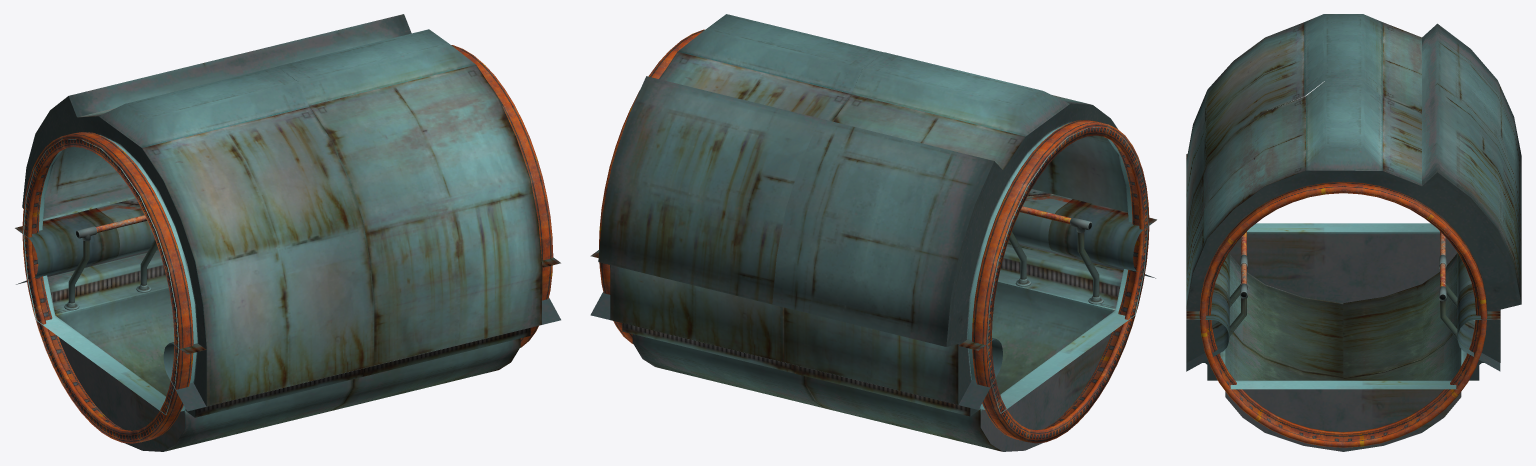
File: phi_tunnel_straight_short.DAE
The picture shows the model from 3 angles, left to right: view 1: azimuth 30°, elevation 25°; view 2: azimuth 150°, elevation 25°; view 3: azimuth 270°, elevation 25°; orthographic projection. The views are drawn at different scales.
Parts seen in each view (by area): view 1: polySurface465, phitunnel_straight018, polySurface464, phitunnel_straight019, phitunnel_straight01; view 2: polySurface465, phitunnel_straight018, polySurface464, phitunnel_straight01, phitunnel_straight019; view 3: polySurface465, phitunnel_straight019, polySurface464, phitunnel_straight01.
Boxes of the visible parts, x1,y1,x2,y2 form: polySurface465: [22, 14, 542, 451]; phitunnel_straight018: [22, 132, 193, 443]; polySurface464: [15, 198, 560, 411]; phitunnel_straight019: [451, 45, 553, 347]; phitunnel_straight01: [64, 215, 157, 310]; polySurface465: [598, 14, 1148, 451]; phitunnel_straight018: [972, 120, 1149, 443]; polySurface464: [590, 189, 1156, 409]; phitunnel_straight01: [1009, 206, 1103, 304]; phitunnel_straight019: [599, 29, 704, 344]; polySurface465: [1186, 14, 1521, 451]; phitunnel_straight019: [1199, 181, 1487, 447]; polySurface464: [1186, 154, 1500, 371]; phitunnel_straight01: [1219, 231, 1467, 354].
Bounding box in the file's own units: 5 × 4.17 × 4.27.
